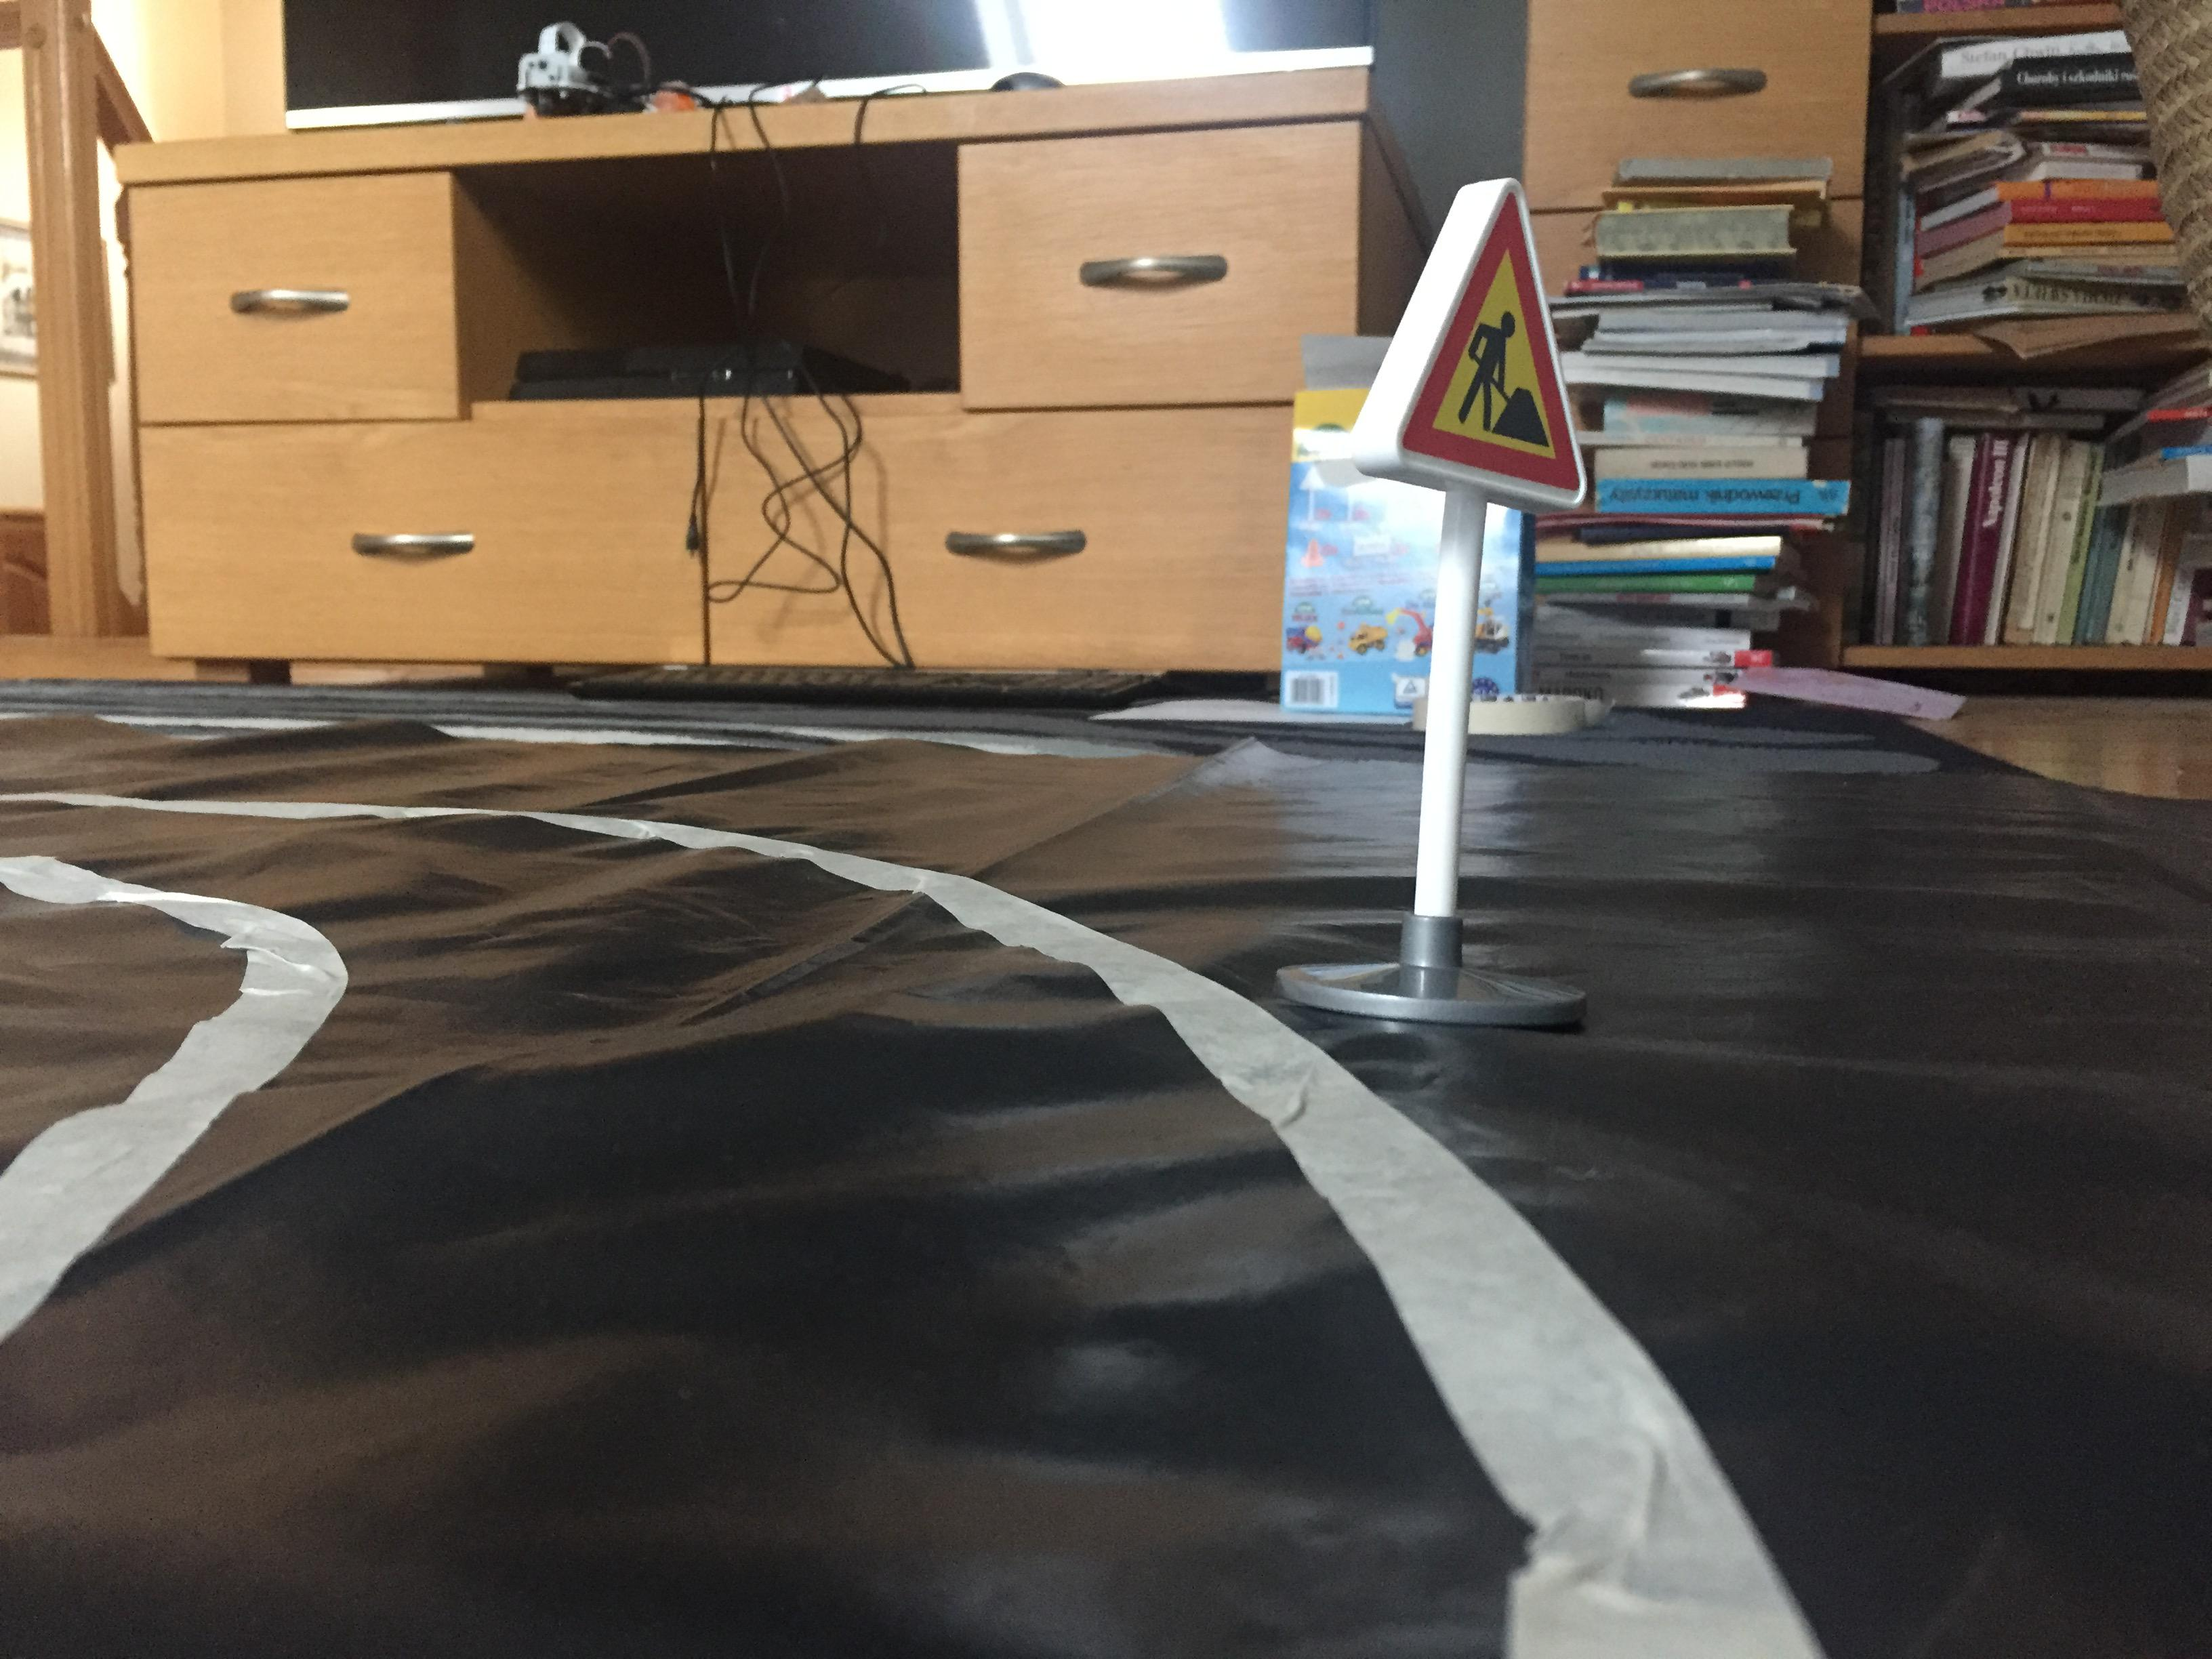work: (1345, 171, 1611, 525)
